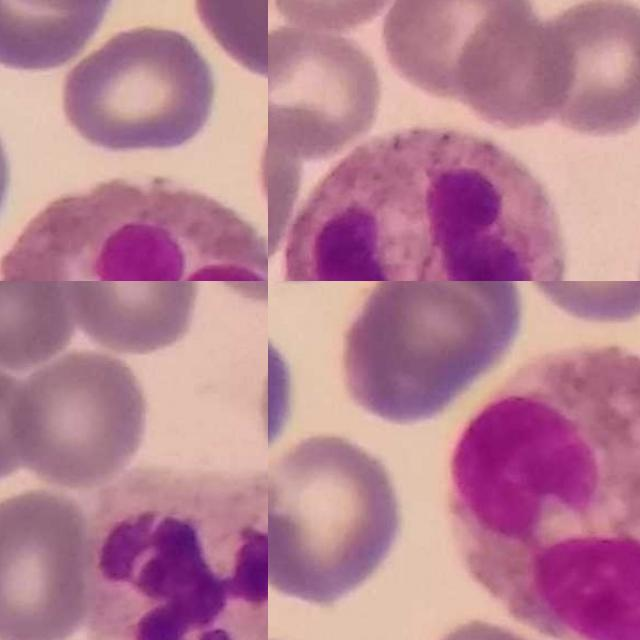Eosinophil: (444, 345, 640, 640), (0, 176, 268, 281)
Neutrophil: (285, 126, 565, 281), (88, 467, 268, 640)
